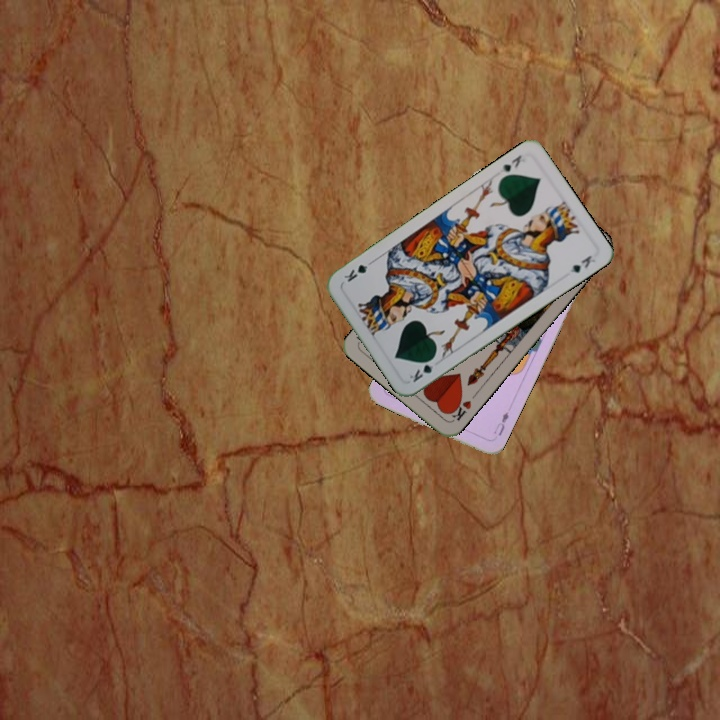EU: (489, 407, 511, 438)
GK: (404, 353, 438, 385), (496, 151, 524, 176)
HK: (445, 395, 474, 424)
